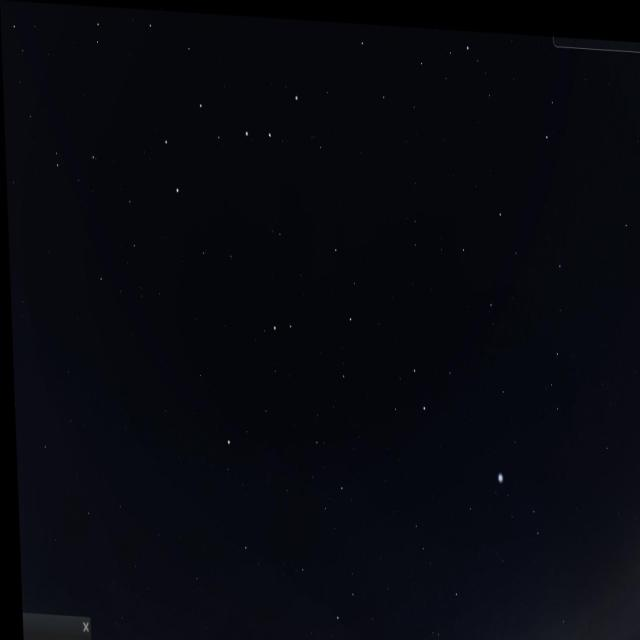lyra: (492, 456, 545, 558)
ursa_major: (160, 71, 304, 207)
